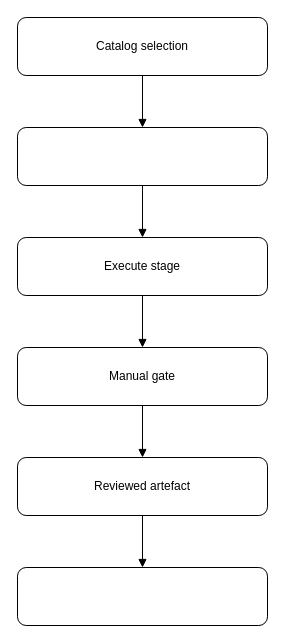
The diagram is 285 pixels wide and 643 high, and some of its shapes have lost their labels. The shapes that lost their labels are listed below. From the top down, each one's centre as x and y in pixels, then its label:
At (142,156): "Side-effect-free plan".
At (142,596): "Continue / export".
